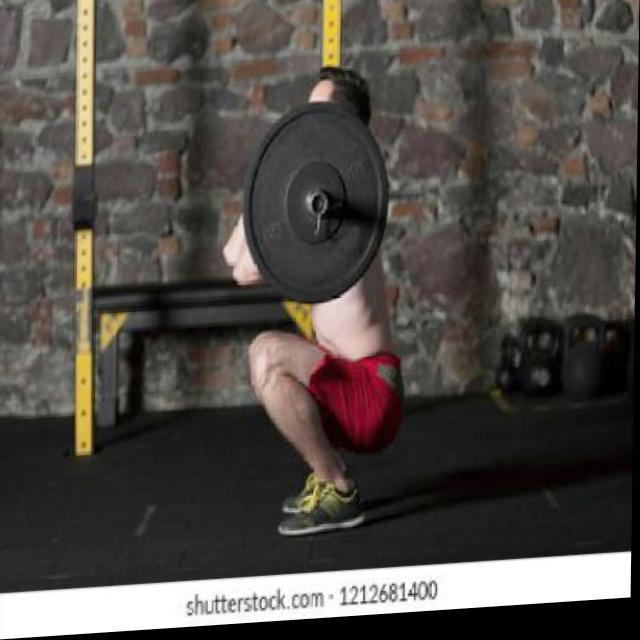barbell: (238, 100, 399, 321)
